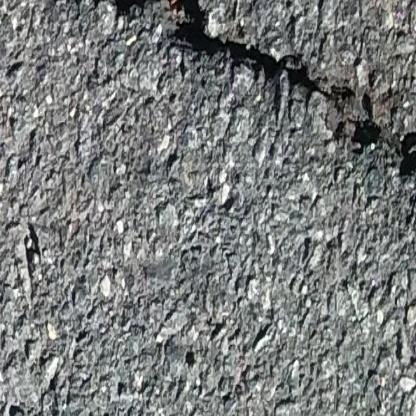Cracks: (56, 0, 383, 155), (393, 132, 416, 184)
